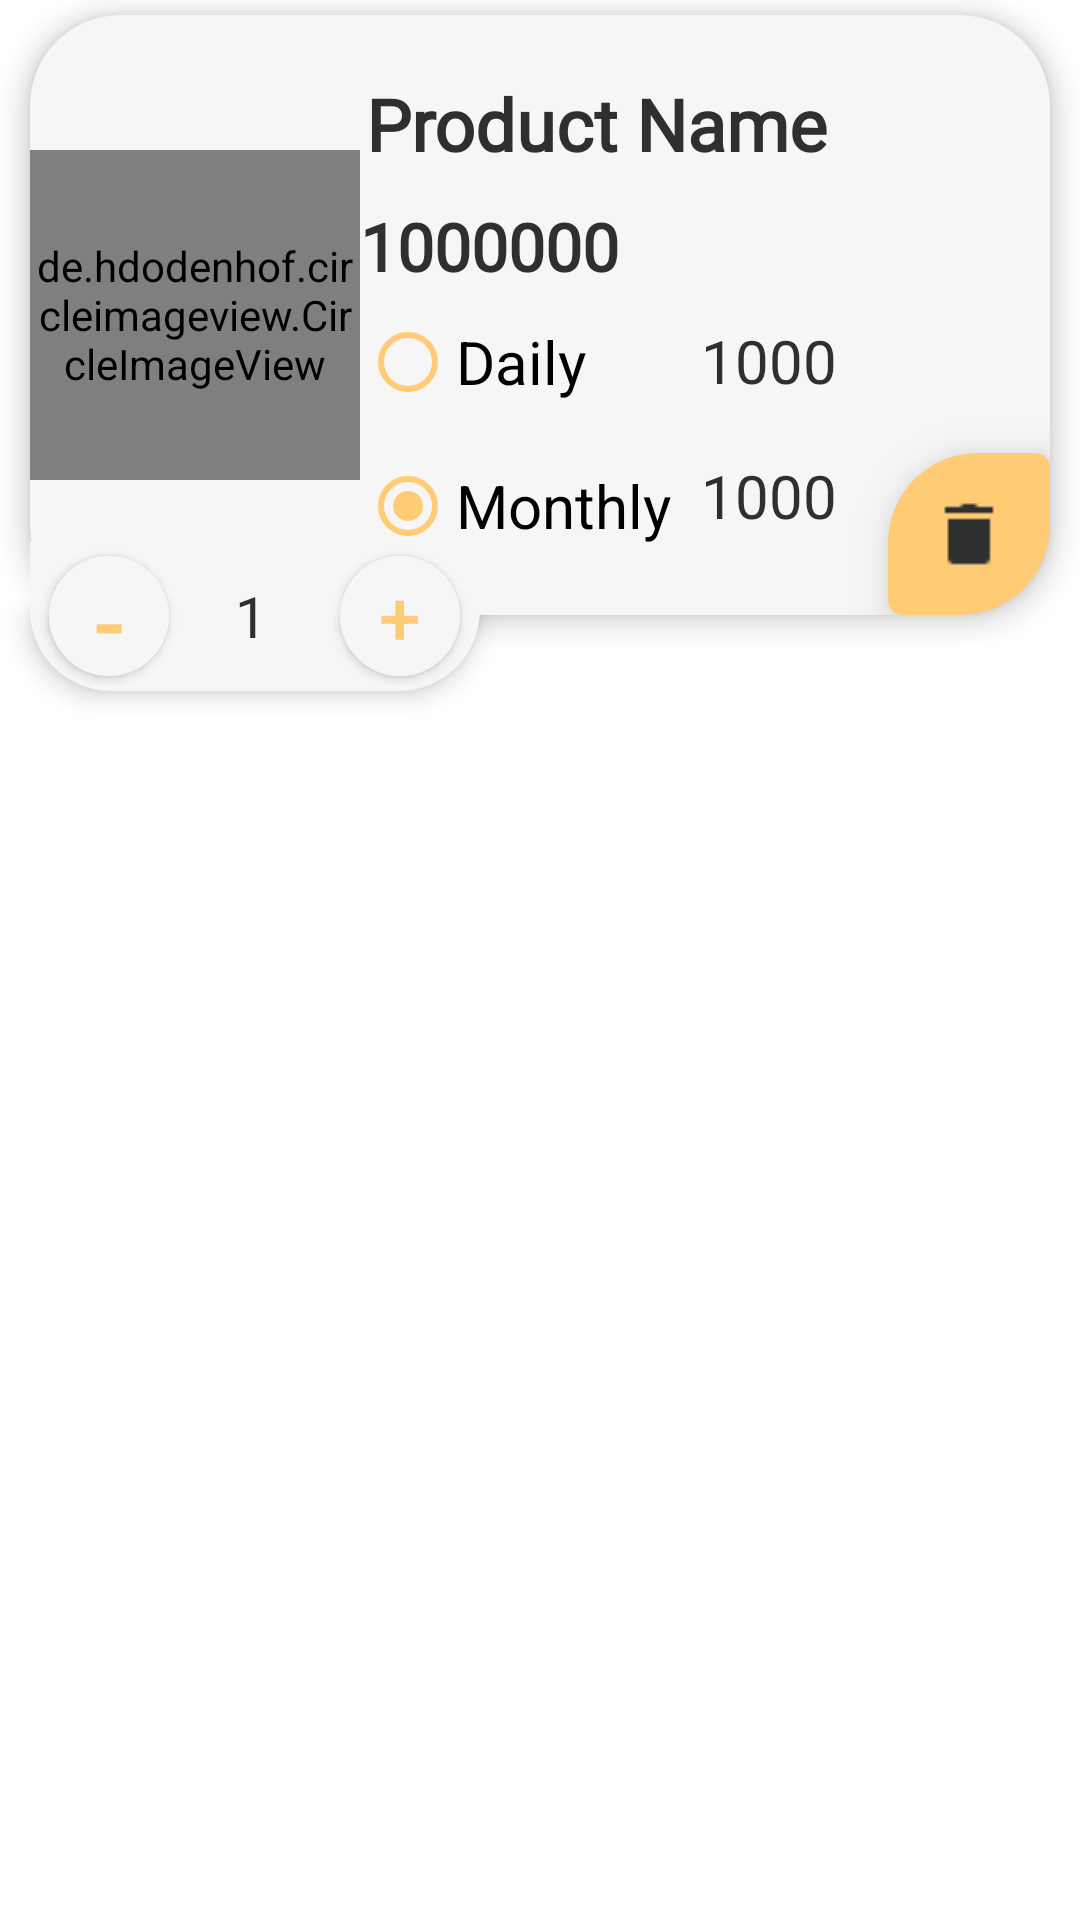

Point at icon controls on the screen. Image size 1080w x 1920h, points as (x,y).
delicon: (969,534)
